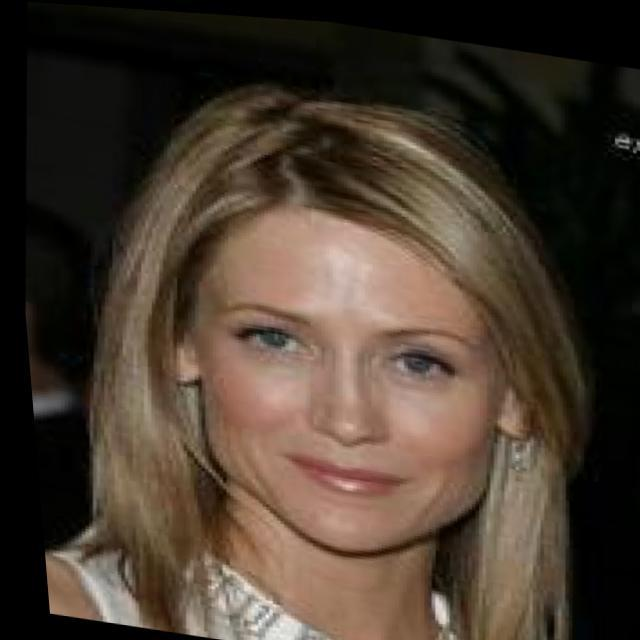Nonhelmet: (135, 83, 547, 579)
